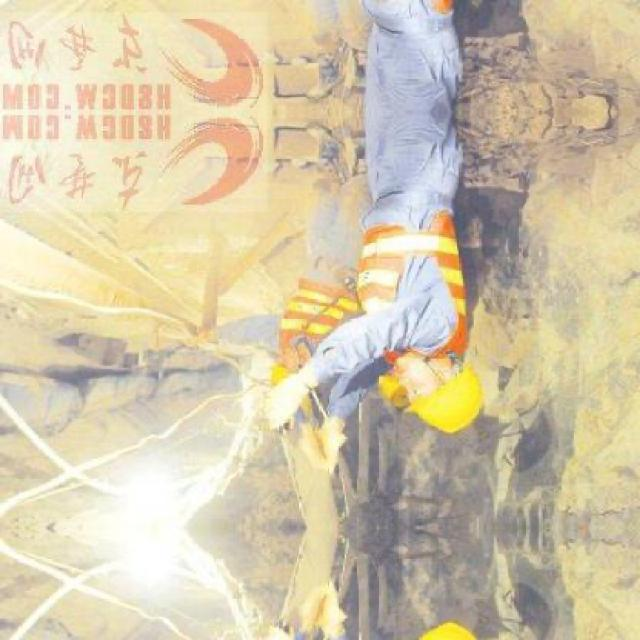con casco: (356, 278, 494, 442)
